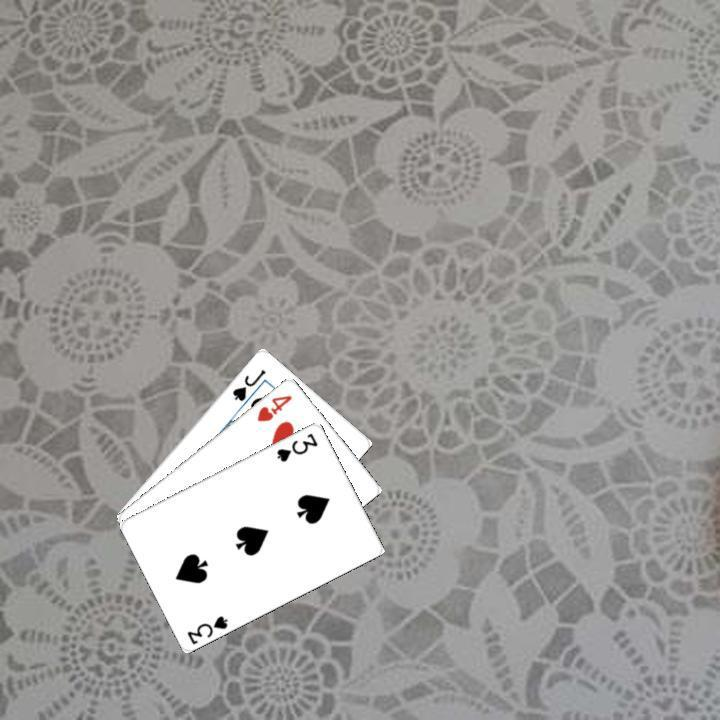3: (272, 428, 320, 464), (183, 611, 230, 646)
4: (253, 390, 294, 423)
J: (228, 365, 268, 403)
